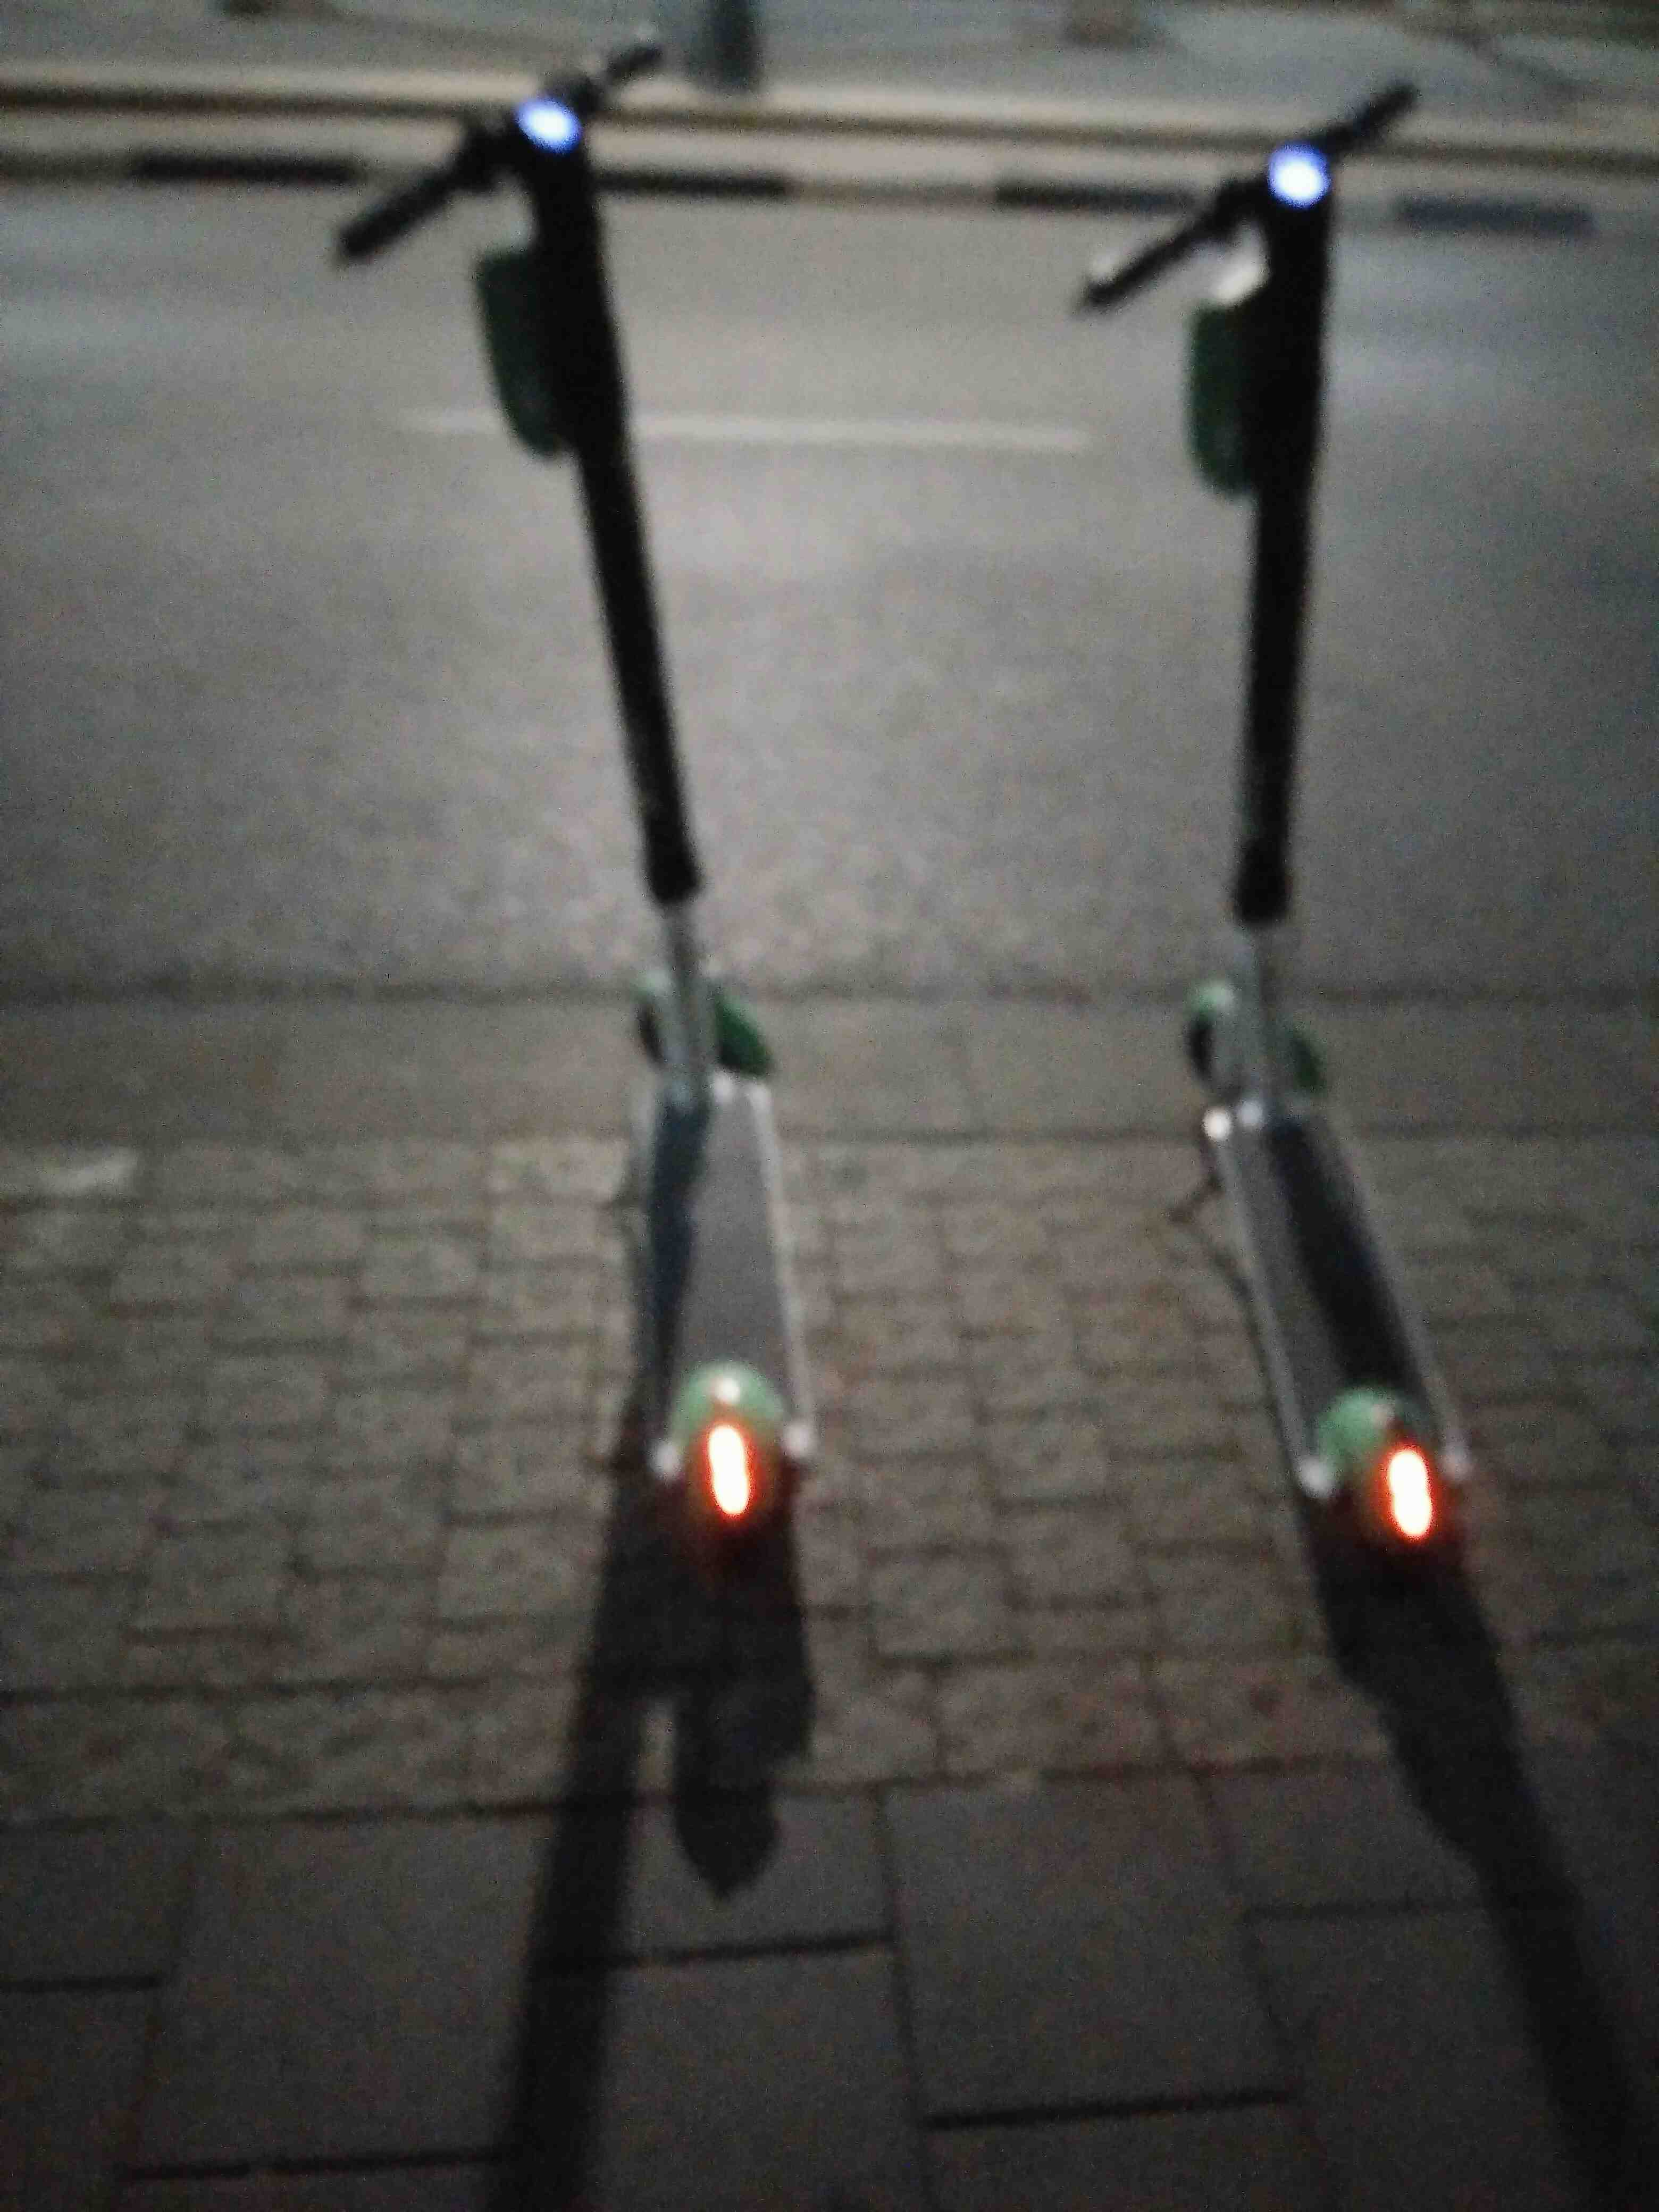too close: (1093, 948, 1420, 1230), (545, 927, 829, 1204)
